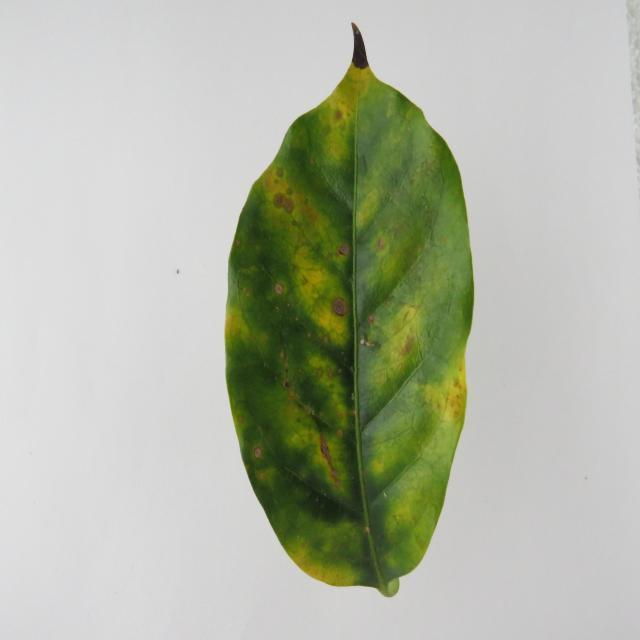DeficienciaNutricional-Potasio: (225, 25, 474, 597)
